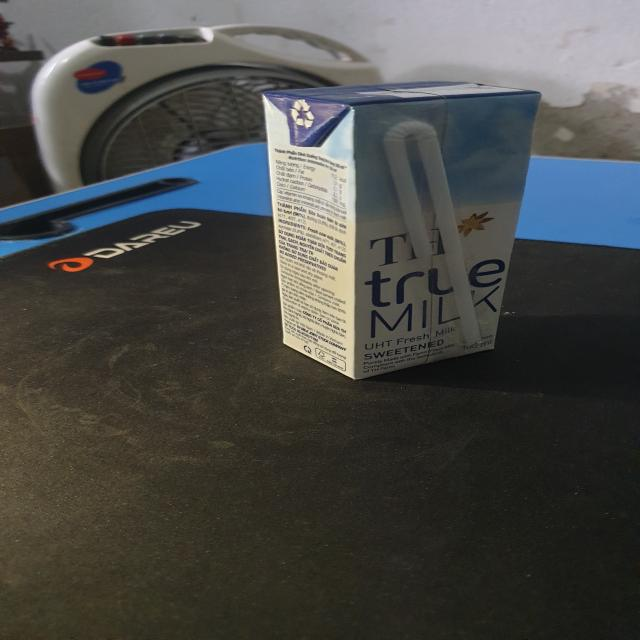TH: (266, 79, 534, 380)
